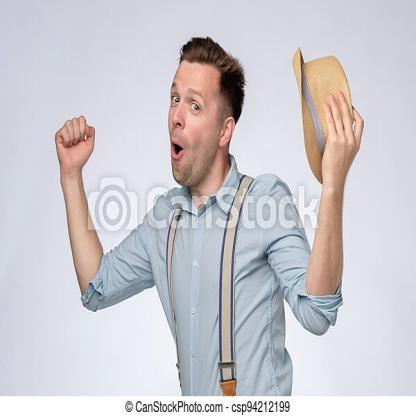fist: (35, 106, 104, 178)
